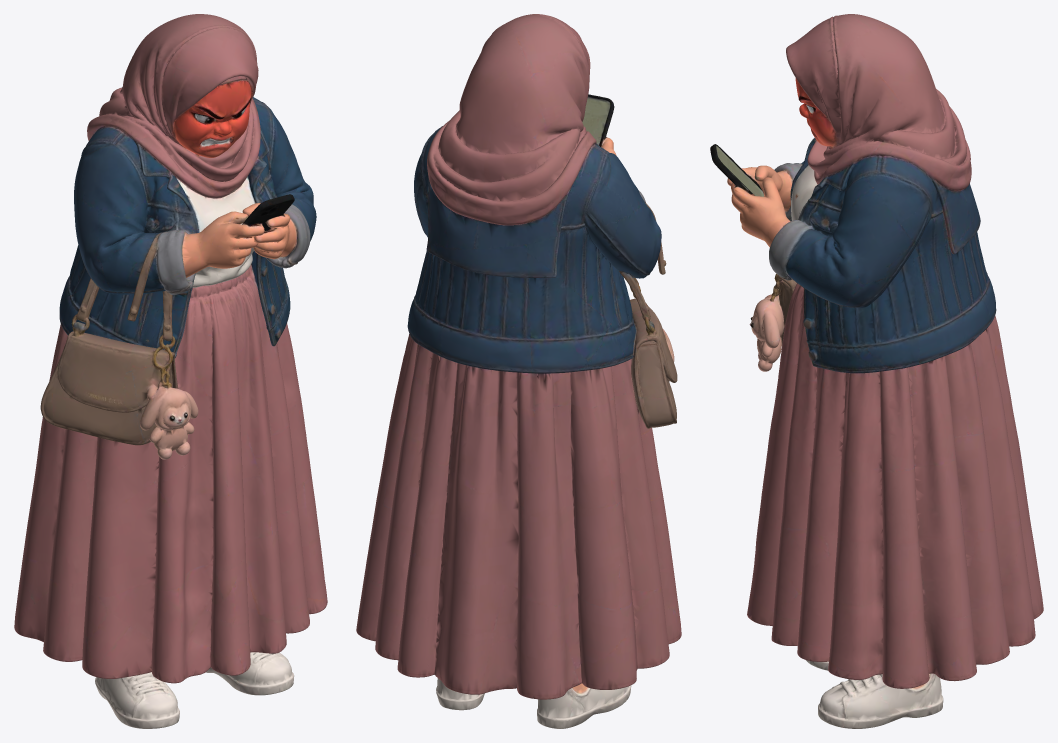
Rendered from kepamist-marah.glb.
The picture shows the model from 3 angles, left to right: view 1: azimuth 30°, elevation 25°; view 2: azimuth 150°, elevation 25°; view 3: azimuth 270°, elevation 25°; orthographic projection.
Parts seen in each view (by area): view 1: mesh_node; view 2: mesh_node; view 3: mesh_node.
Part boxes in pixels (x1,y1,x2,y2): mesh_node: [14, 14, 327, 728]; mesh_node: [356, 14, 681, 728]; mesh_node: [710, 14, 1043, 728].
Size of the model in its own units: 0.8629 by 1.9 by 0.8576.
1 material, 1 textured.
